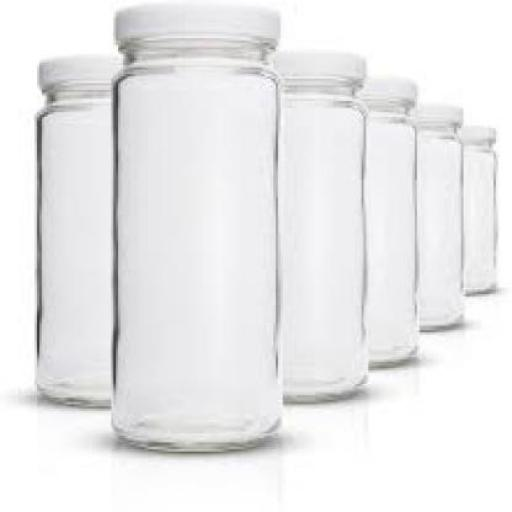glass: (111, 33, 278, 452), (269, 76, 366, 400), (35, 86, 111, 406), (357, 99, 417, 366), (412, 121, 462, 328), (459, 144, 496, 292)
plastic: (109, 4, 277, 39), (269, 49, 364, 85), (32, 54, 116, 80), (360, 74, 418, 101), (408, 99, 466, 119), (457, 120, 491, 142)
